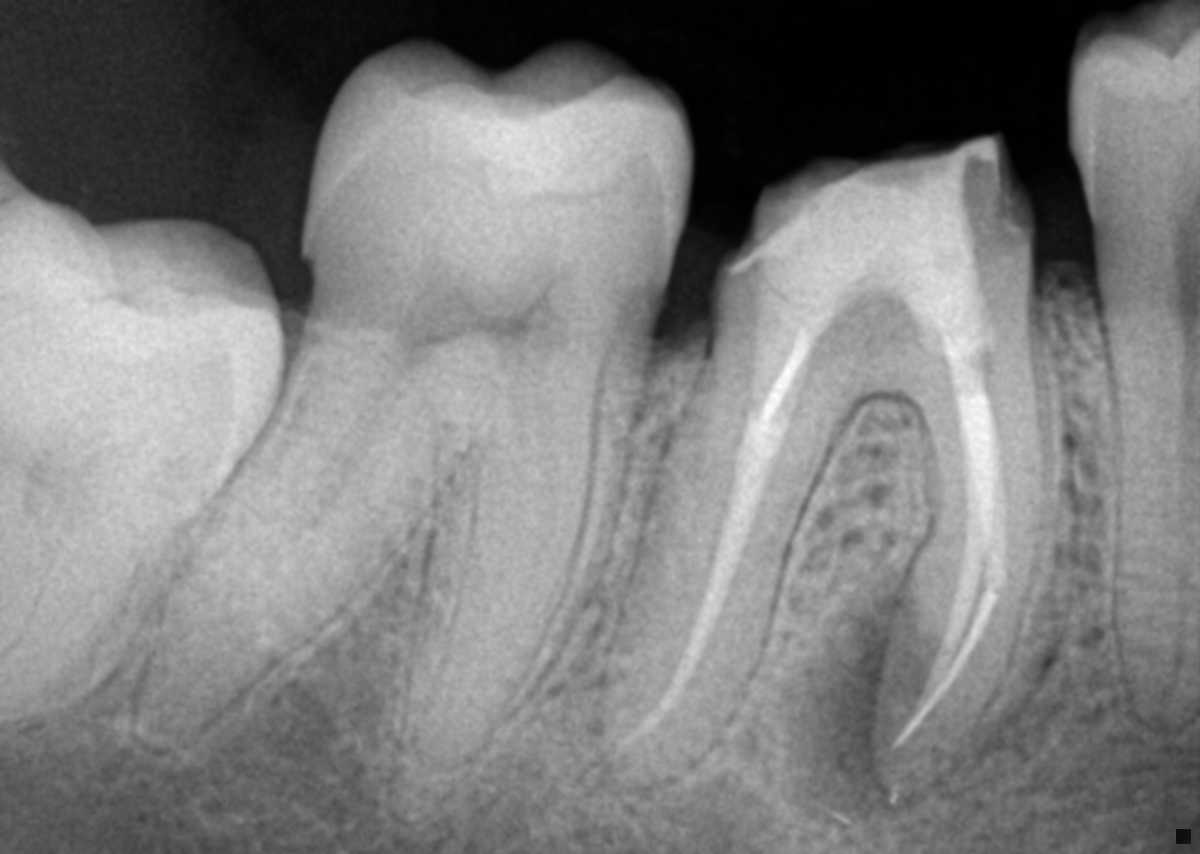Apical Lesion: (785, 577, 982, 846)
Distal Root: (122, 322, 463, 770), (601, 366, 842, 789)
Main Canal: (1158, 242, 1200, 722)
Main Root: (1089, 230, 1200, 737)
Mesial Root: (385, 356, 651, 818), (869, 349, 1070, 810)
Root Canal Filling: (614, 402, 791, 752), (896, 378, 1008, 744)
